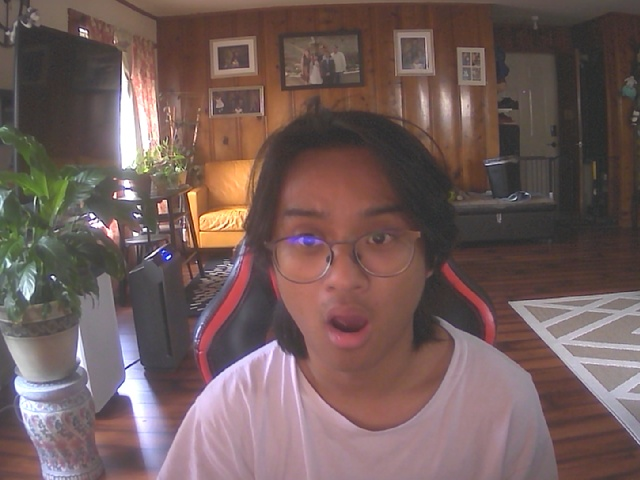fear: (265, 120, 447, 376)
